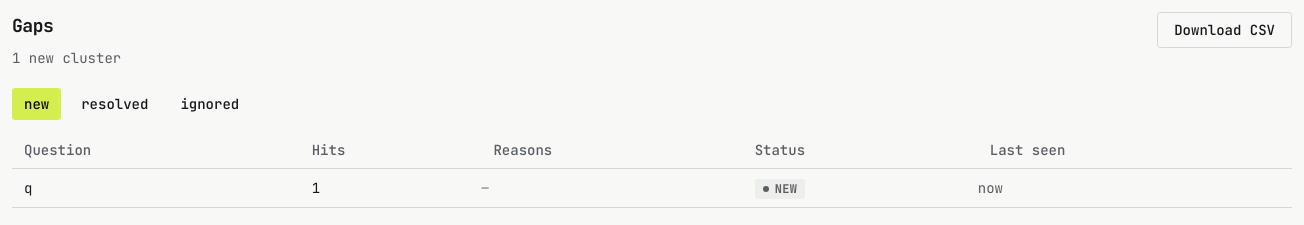
Scenario: GapsClient › links each miss to its conversation (retrieval tab)
The width and height of the screenshot is (1304, 225).
Step 1. Click the button "q" → (28,188), box [24,178,32,198]
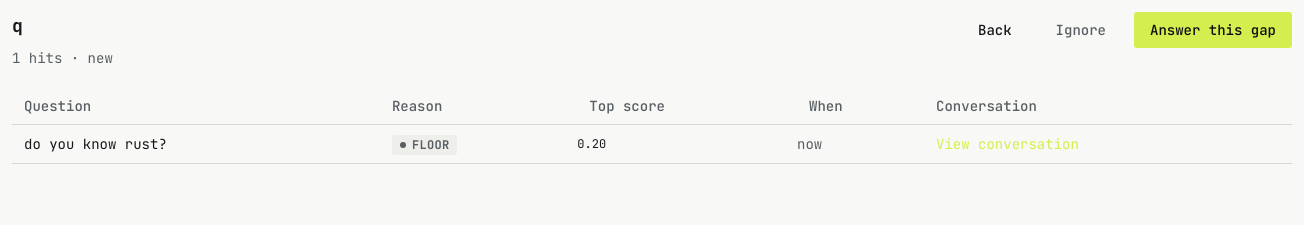
Check: the text "do you know rust?" is shown, box [12,124,380,164]
